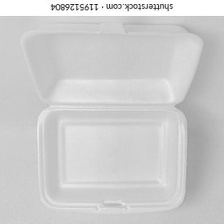foam_box: (13, 16, 209, 219)
